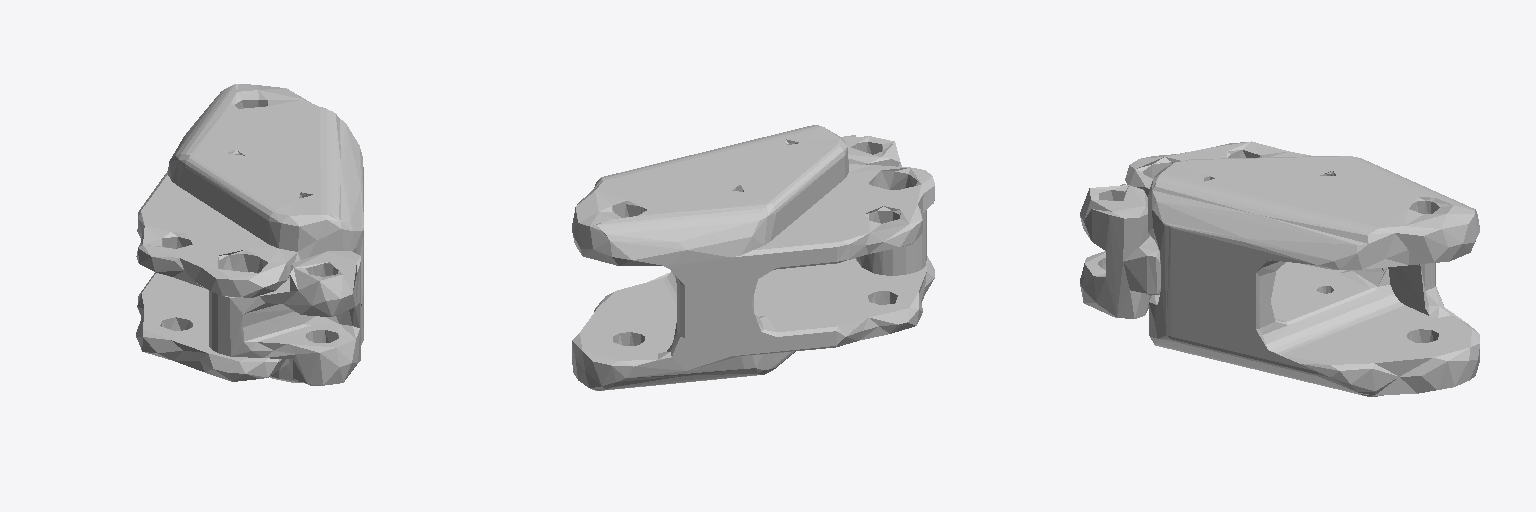
The model's file is L_thumb_intermediate.obj.
The picture shows the model from 3 angles: view 1: azimuth 30°, elevation 25°; view 2: azimuth 150°, elevation 25°; view 3: azimuth 270°, elevation 25°; orthographic projection.
Visible parts, largest first — view 1: L_thumb_intermediate; view 2: L_thumb_intermediate; view 3: L_thumb_intermediate.
Boxes of the visible parts, x1=… form: L_thumb_intermediate: x1=136, y1=84, x2=363, y2=385; L_thumb_intermediate: x1=572, y1=125, x2=934, y2=390; L_thumb_intermediate: x1=1080, y1=141, x2=1479, y2=396.
Bounding box in the file's own units: 0.0264 × 0.016 × 0.0346.